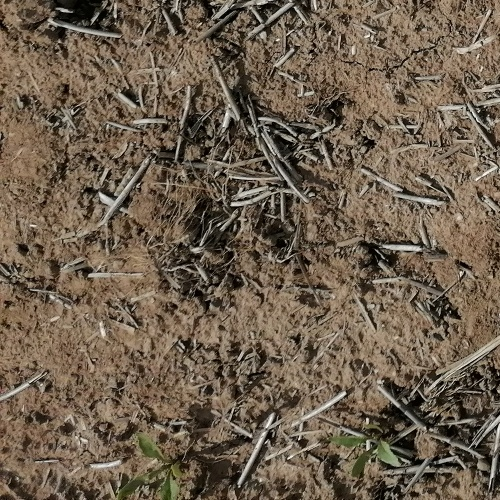beet: (118, 437, 186, 500), (333, 433, 399, 474)
